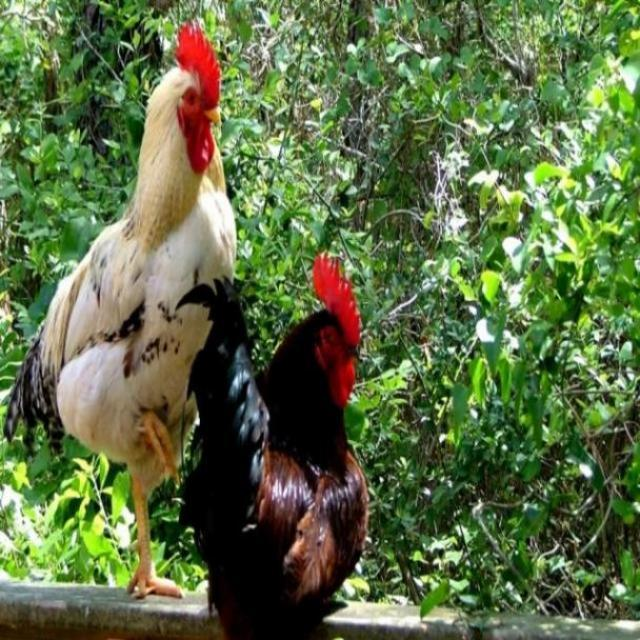Chicken: (11, 30, 250, 587), (170, 247, 376, 638)
